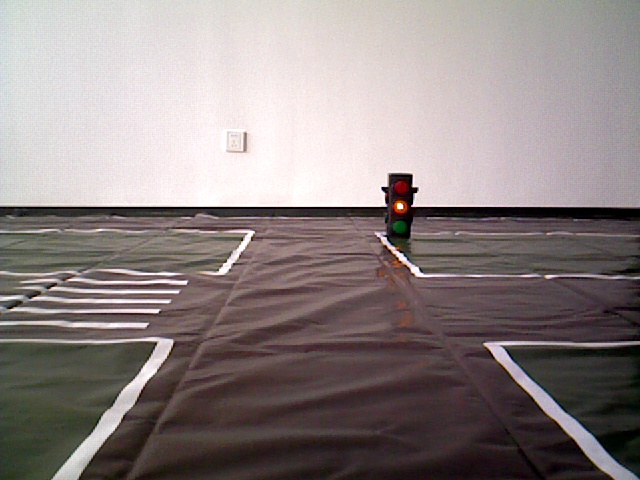yellow: (384, 172, 415, 241)
